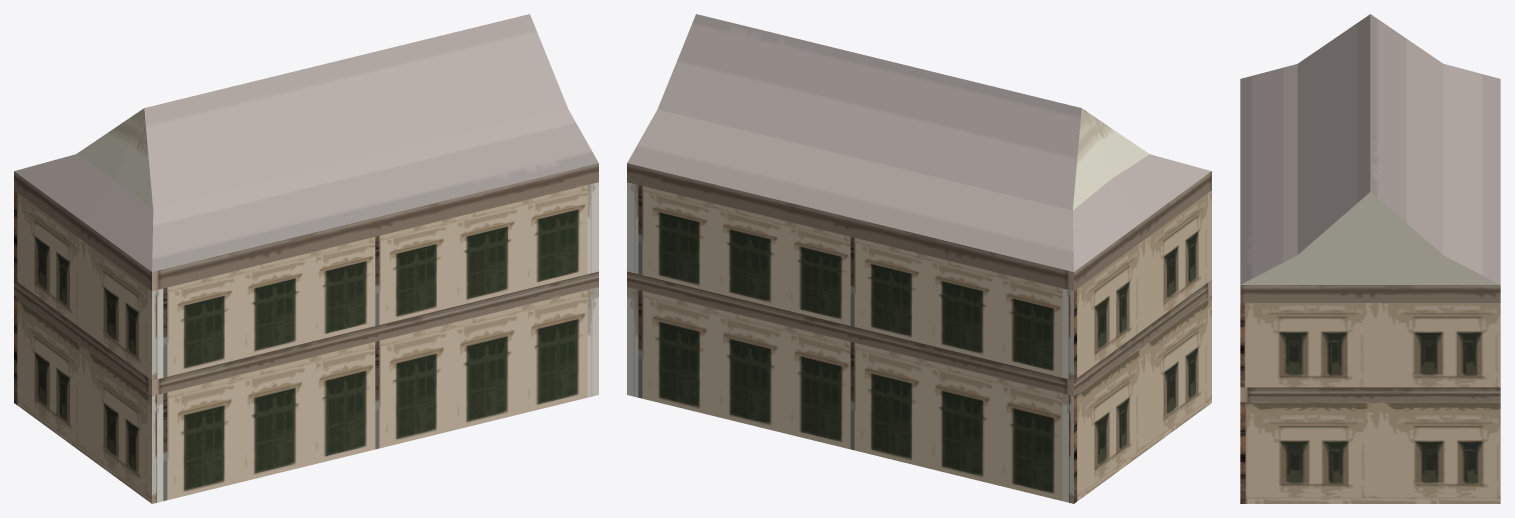
The model's file is SM_Building_Rich_04.fbx.
3 renders of one model, left to right at view 1: azimuth 30°, elevation 25°; view 2: azimuth 150°, elevation 25°; view 3: azimuth 270°, elevation 25°, orthographic. The views are drawn at different scales.
Visible parts, largest first — view 1: SM_Building_Rich_04; view 2: SM_Building_Rich_04; view 3: SM_Building_Rich_04.
Boxes of the visible parts, x1=… form: SM_Building_Rich_04: x1=14, y1=14, x2=598, y2=503; SM_Building_Rich_04: x1=627, y1=14, x2=1211, y2=503; SM_Building_Rich_04: x1=1240, y1=14, x2=1500, y2=503.
Bounding box in the file's own units: 20.23 × 14.3 × 10.82.
